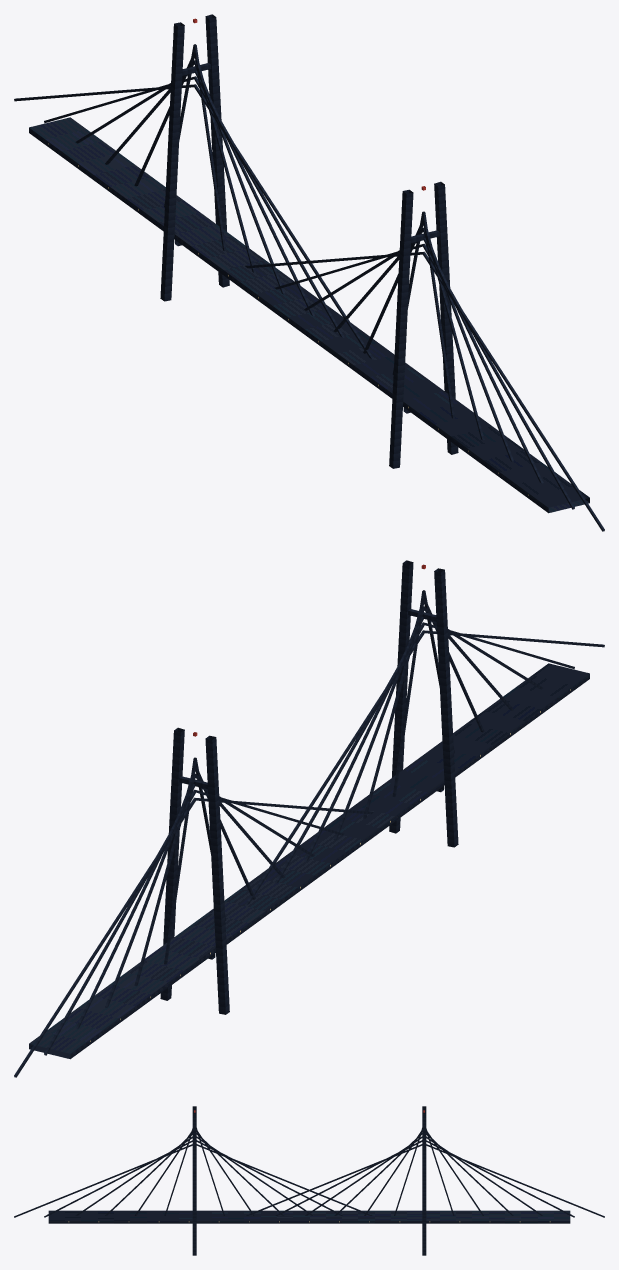
File: wangan_bridge.glb
The picture shows the model from 3 angles, top to bottom: view 1: azimuth 30°, elevation 25°; view 2: azimuth 150°, elevation 25°; view 3: azimuth 270°, elevation 25°; orthographic projection. The views are drawn at different scales.
Parts seen in each view (by area): view 1: wangan_bridge; view 2: wangan_bridge; view 3: wangan_bridge.
Part boxes in pixels (left/top/right/bottom): wangan_bridge: left=14, top=14, right=604, bottom=531; wangan_bridge: left=14, top=560, right=604, bottom=1077; wangan_bridge: left=14, top=1106, right=604, bottom=1255.
Size of the model in its own units: 37.79 by 151 by 589.
3 materials, 3 textured.
